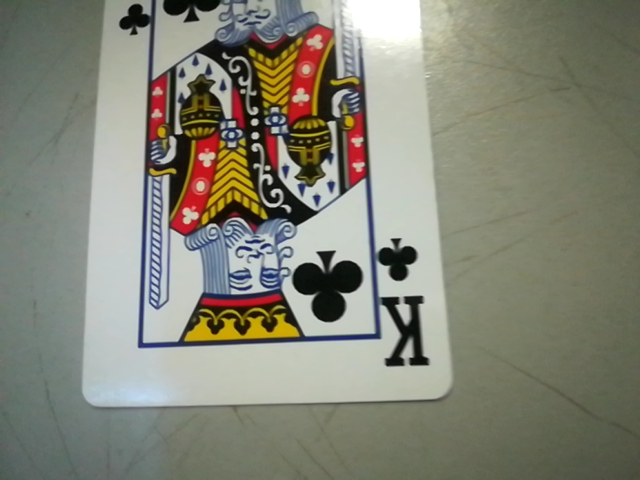mh k: (367, 229, 443, 381)
